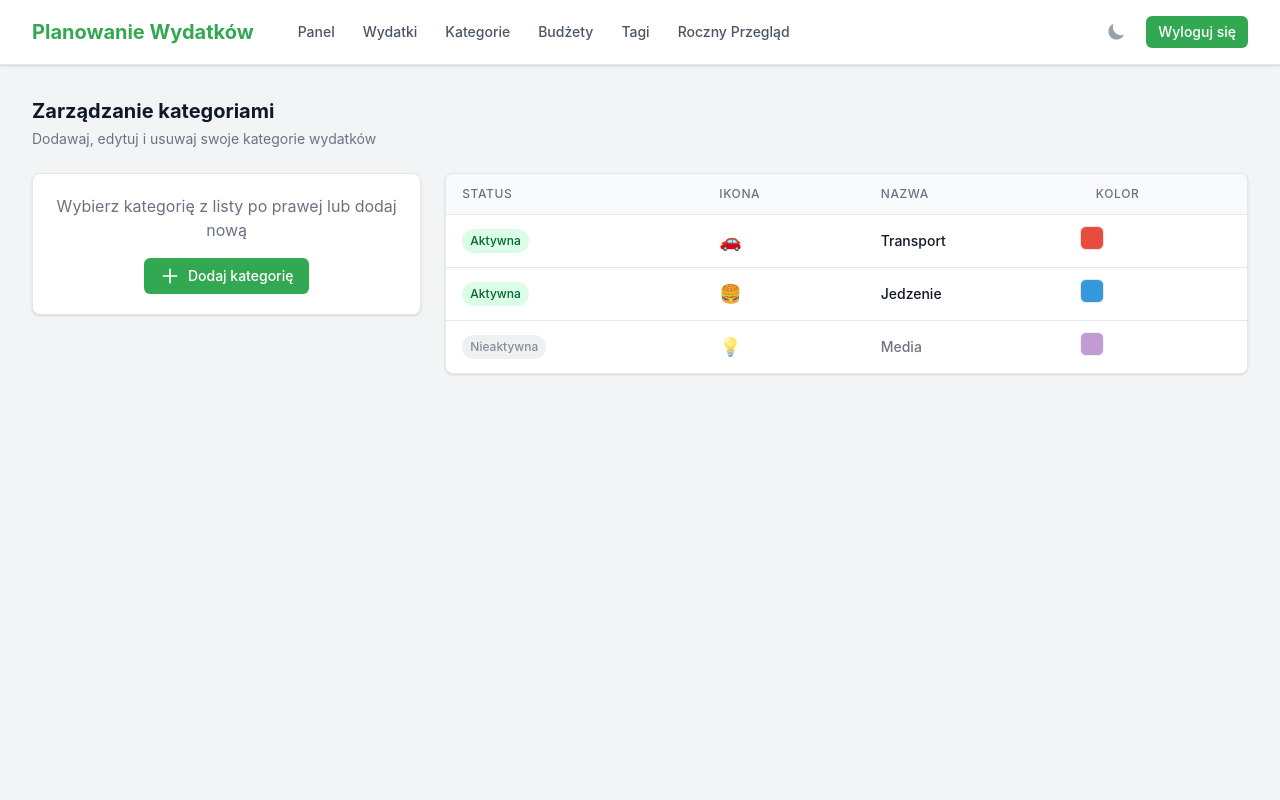
Scenario: the category table › clicking a row opens the edit panel prefilled with the category
The width and height of the screenshot is (1280, 800).
Click the text "Transport": [913, 240] box x1=865 y1=214 x2=1080 y2=268
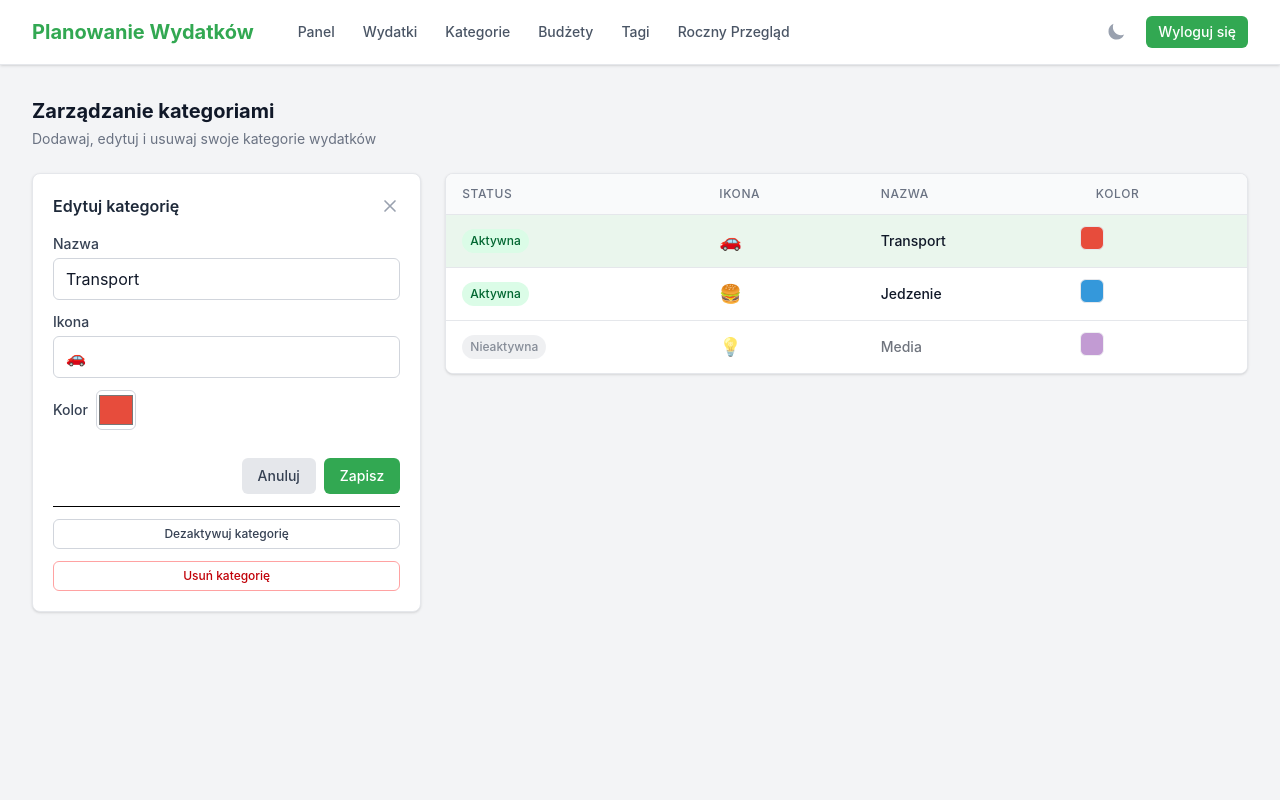
Now the heading "Edytuj kategorię" is shown, box x1=53 y1=194 x2=400 y2=218
Now the field labelled "Nazwa" holds "Transport", box x1=53 y1=258 x2=400 y2=300
